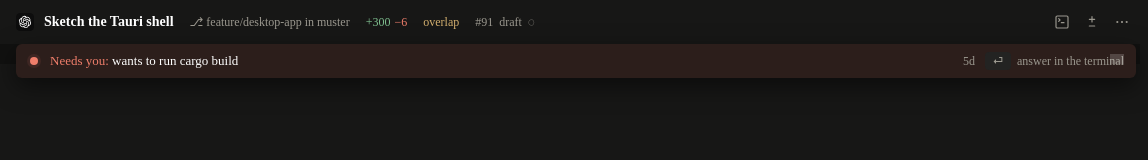
Test case: ARC-24 the session pane › offers full screen and the list's keys in its more menu, each with its key
Click the button named "More" at (1122, 22), box x1=1108 y1=8 x2=1136 y2=36
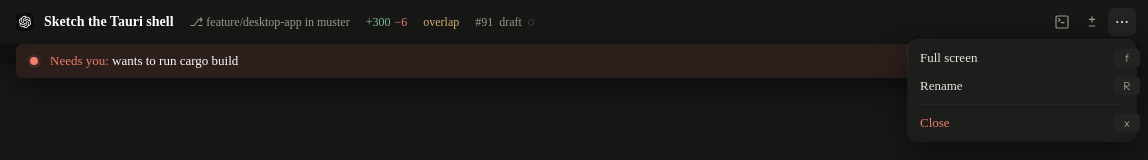
Now the menu items read "Full screenf", "RenameR", "Closex", in this order, box x1=912 y1=44 x2=1147 y2=72; x1=912 y1=72 x2=1147 y2=100; x1=912 y1=109 x2=1147 y2=137
Press Arrowdown Arrowdown Arrowdown Enter
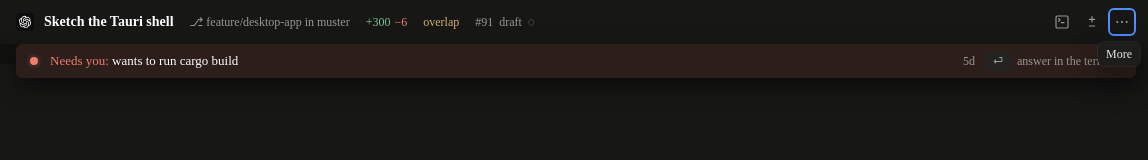
Now the menu is gone
Click the button named "More" at (1122, 22), box x1=1108 y1=8 x2=1136 y2=36
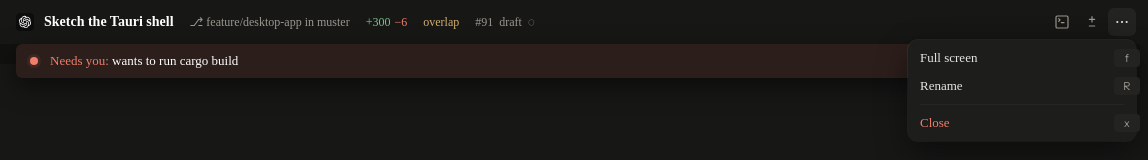
Type keys "R"
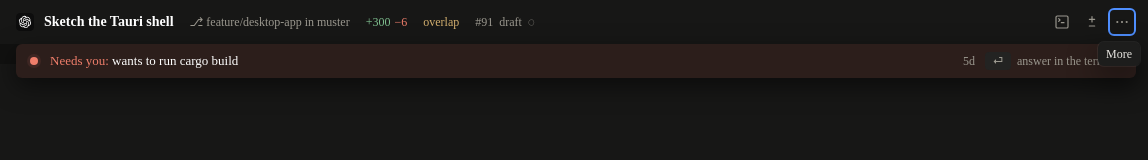
Click the button named "More" at (1122, 22), box x1=1108 y1=8 x2=1136 y2=36
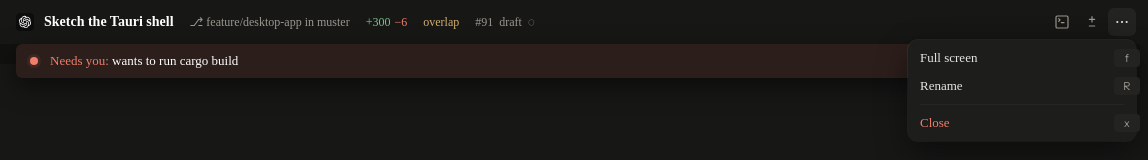
Now the menu is shown, box x1=908 y1=40 x2=1136 y2=141
Press Escape
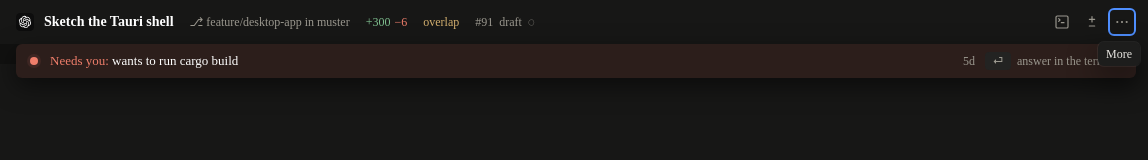
Now the menu is gone
